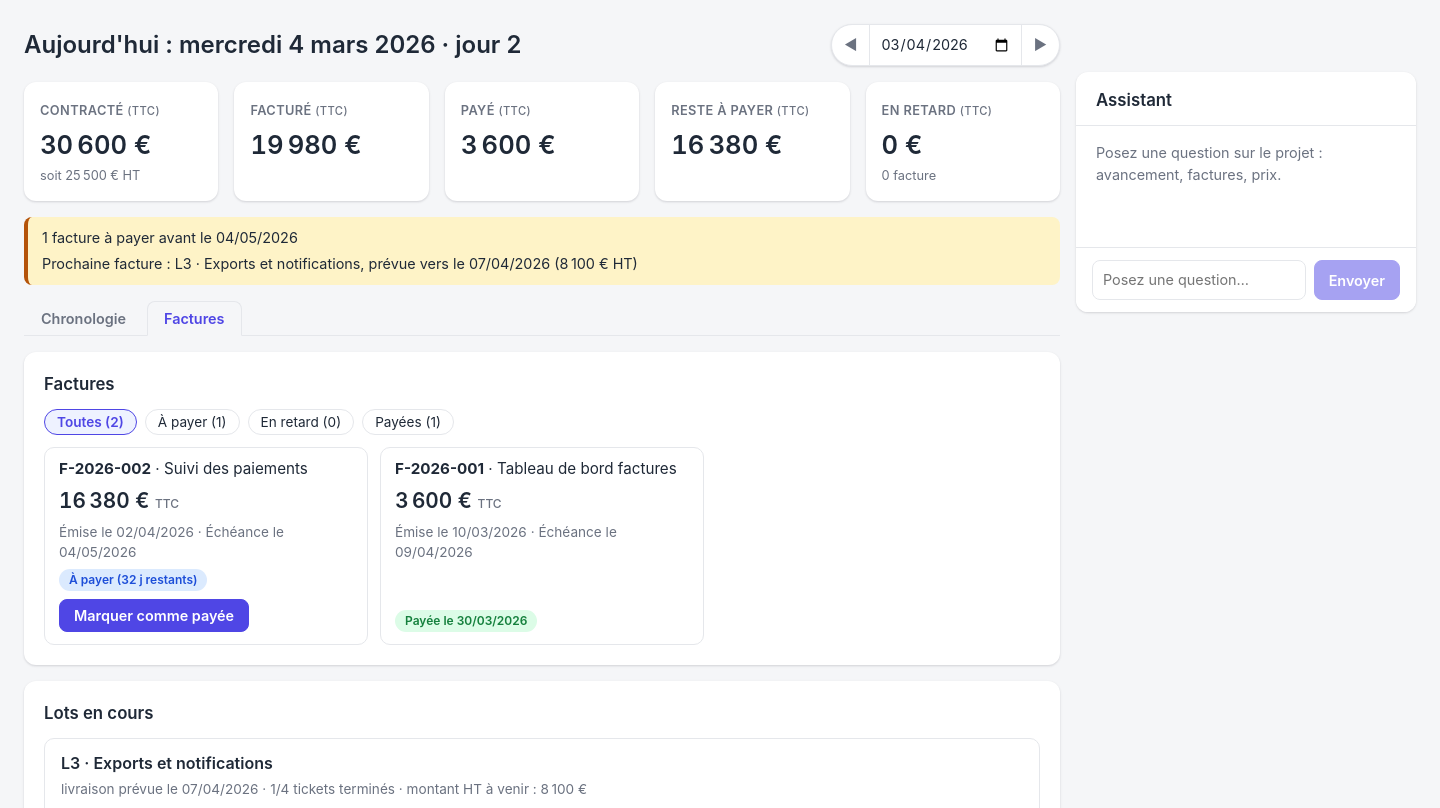
Test: ClientPage › marking an invoice paid › shows the backend message of a 409 under the button and keeps the card
The width and height of the screenshot is (1440, 808).
Click the button "Marquer comme payée" at (154, 615), box [59,599,249,632]
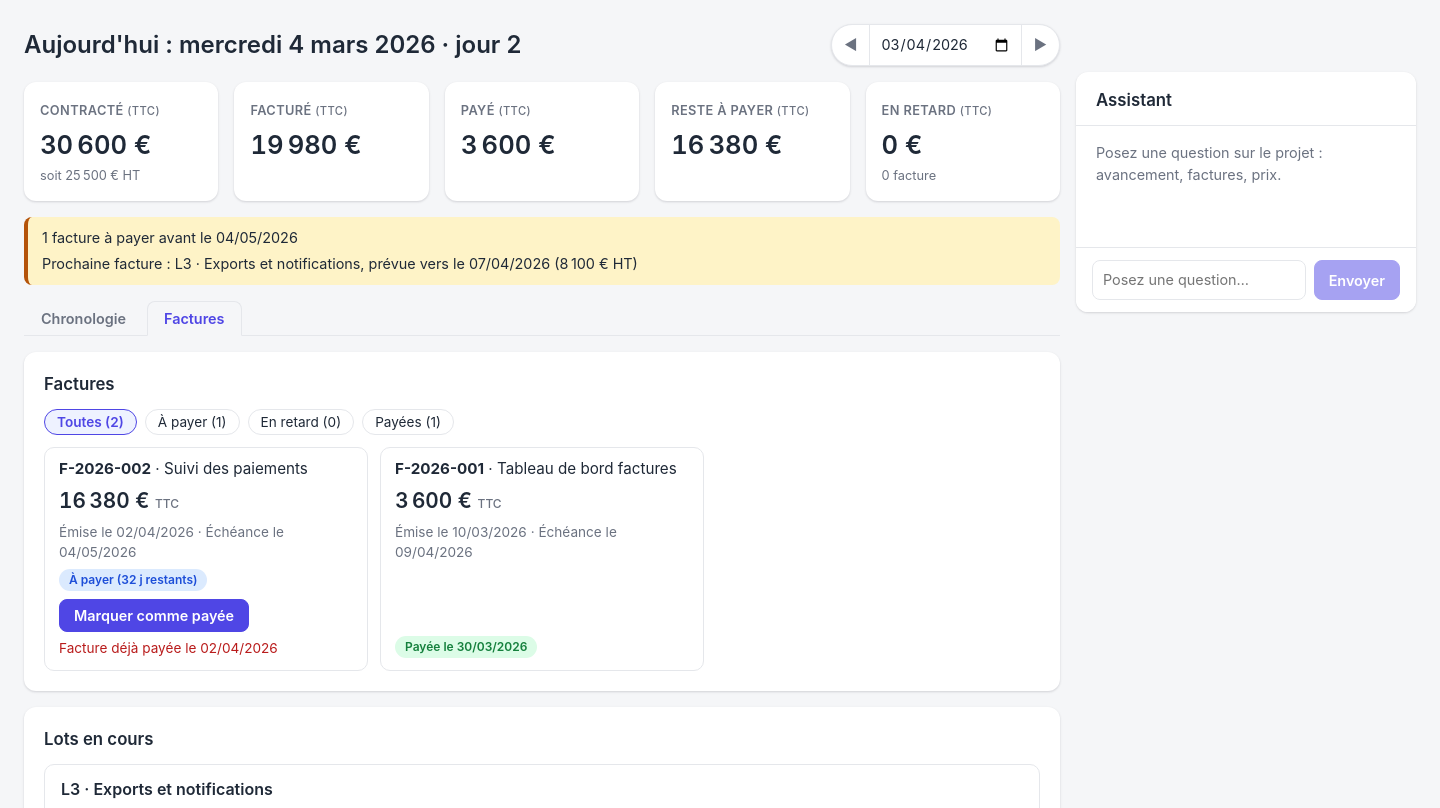
expect the text "À payer (32 j restants)" is shown: met, box [59,569,208,591]
expect the message reads "Facture déjà payée le 02/04/2026": met, box [59,640,278,656]
